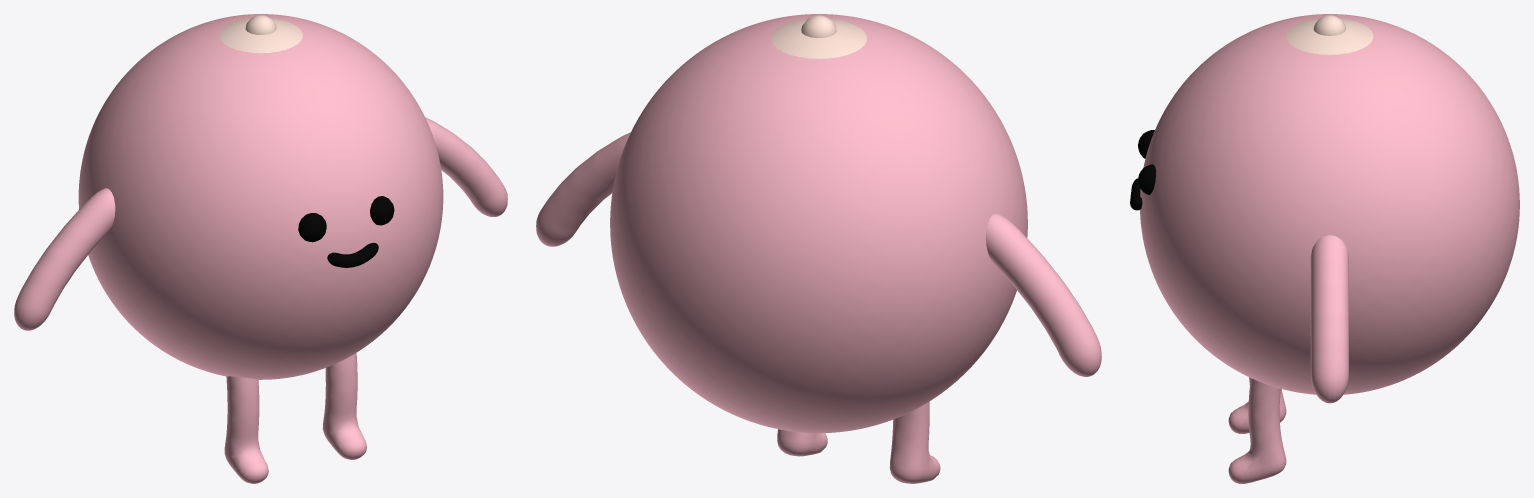
File: character.gltf
3 renders of one model, left to right at view 1: azimuth 30°, elevation 25°; view 2: azimuth 150°, elevation 25°; view 3: azimuth 270°, elevation 25°, orthographic. The views are drawn at different scales.
Parts seen in each view (by area): view 1: Sphere, L. ARM (×2), L. leg (×2), Sphere.1, eye, Mouth; view 2: Sphere, L. ARM (×2), L. leg (×2), Sphere.1, nipple; view 3: Sphere, L. ARM, L. leg (×2), Sphere.1, eye, nipple.
Boxes of the visible parts, box(x1,y1,x2,y2) form: Sphere: box(78, 14, 443, 379); L. ARM (×2): box(14, 117, 507, 330); L. leg (×2): box(224, 353, 366, 483); Sphere.1: box(219, 18, 302, 53); eye: box(298, 196, 394, 242); Mouth: box(327, 242, 378, 267); Sphere: box(610, 14, 1027, 433); L. ARM (×2): box(536, 132, 1101, 376); L. leg (×2): box(777, 401, 940, 483); Sphere.1: box(771, 18, 866, 58); nipple: box(801, 15, 836, 37); Sphere: box(1140, 14, 1519, 394); L. ARM: box(1310, 235, 1348, 403); L. leg (×2): box(1228, 377, 1286, 483); Sphere.1: box(1286, 18, 1373, 54); eye: box(1138, 130, 1155, 194); nipple: box(1313, 15, 1345, 35).
Bounding box in the file's own units: 308 × 254 × 204.
